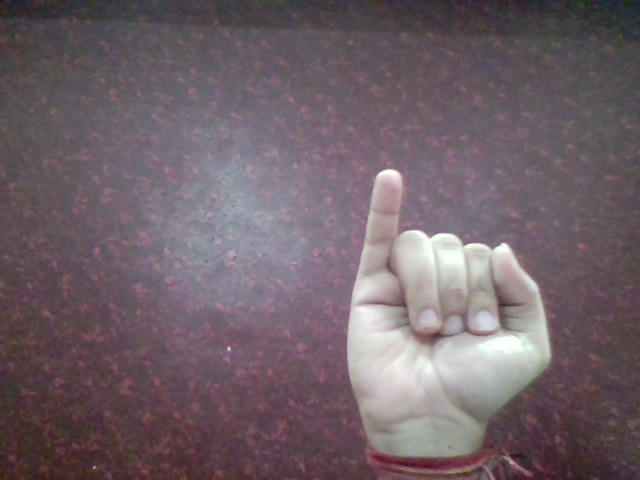i: (334, 162, 570, 438)
